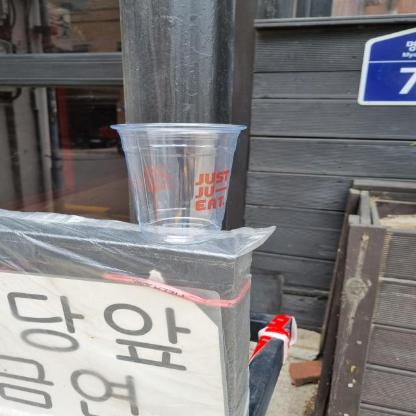Plastic Cup: (111, 122, 247, 246)
